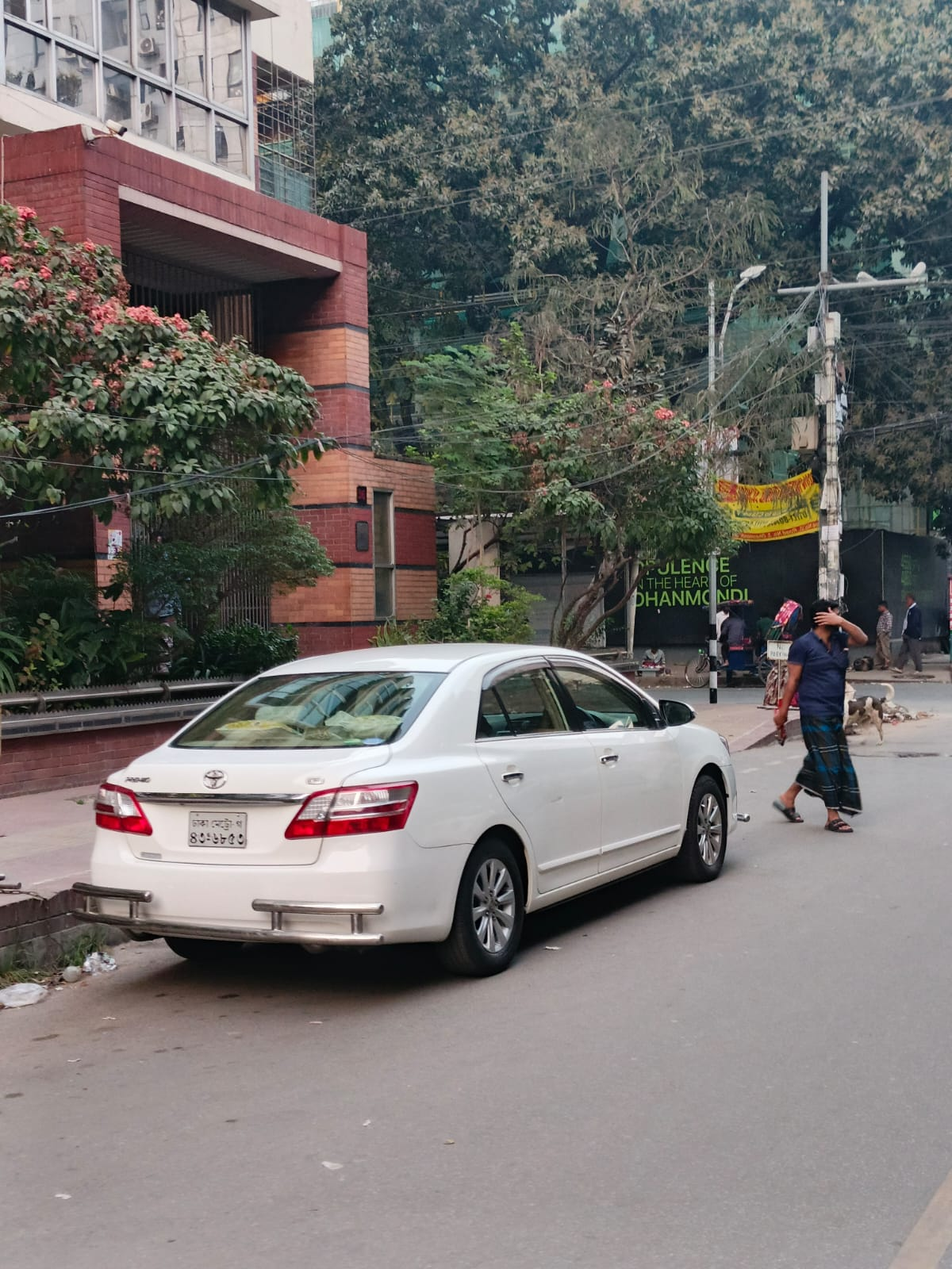private car: (82, 614, 726, 999)
